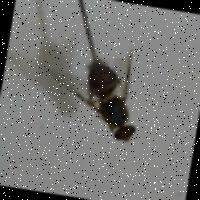Oriental-fruit-fly: (47, 36, 160, 174)
